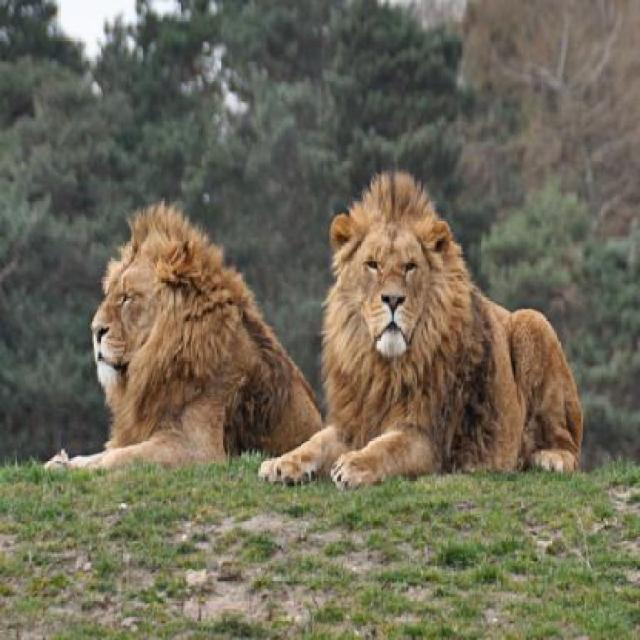Lion: (257, 154, 595, 515), (32, 166, 318, 489)
